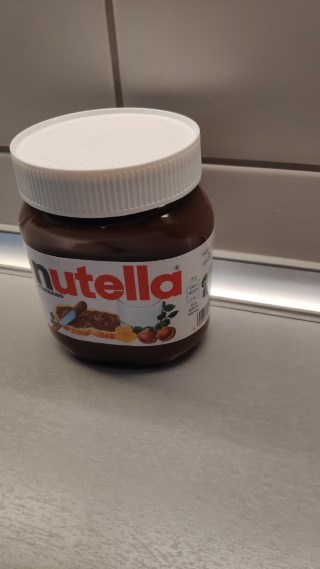nutella: (7, 103, 217, 377)
